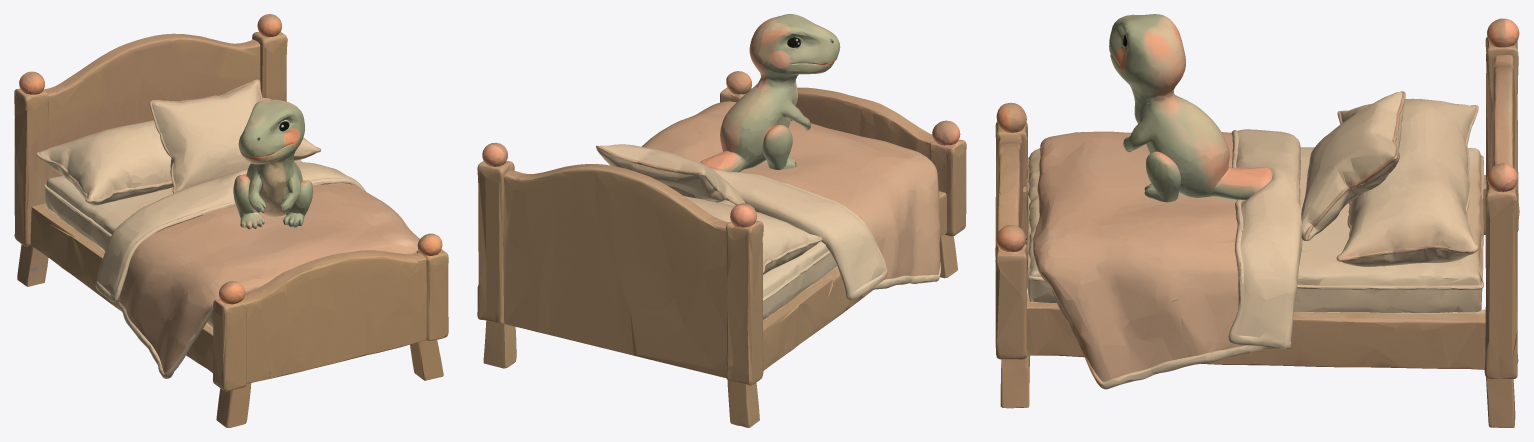
3 renders of one model, left to right at view 1: azimuth 30°, elevation 25°; view 2: azimuth 150°, elevation 25°; view 3: azimuth 270°, elevation 25°, orthographic. The views are drawn at different scales.
Size of the model in its own units: 1.45 by 1.28 by 1.9.
Materials: 1 (1 with a texture image).
